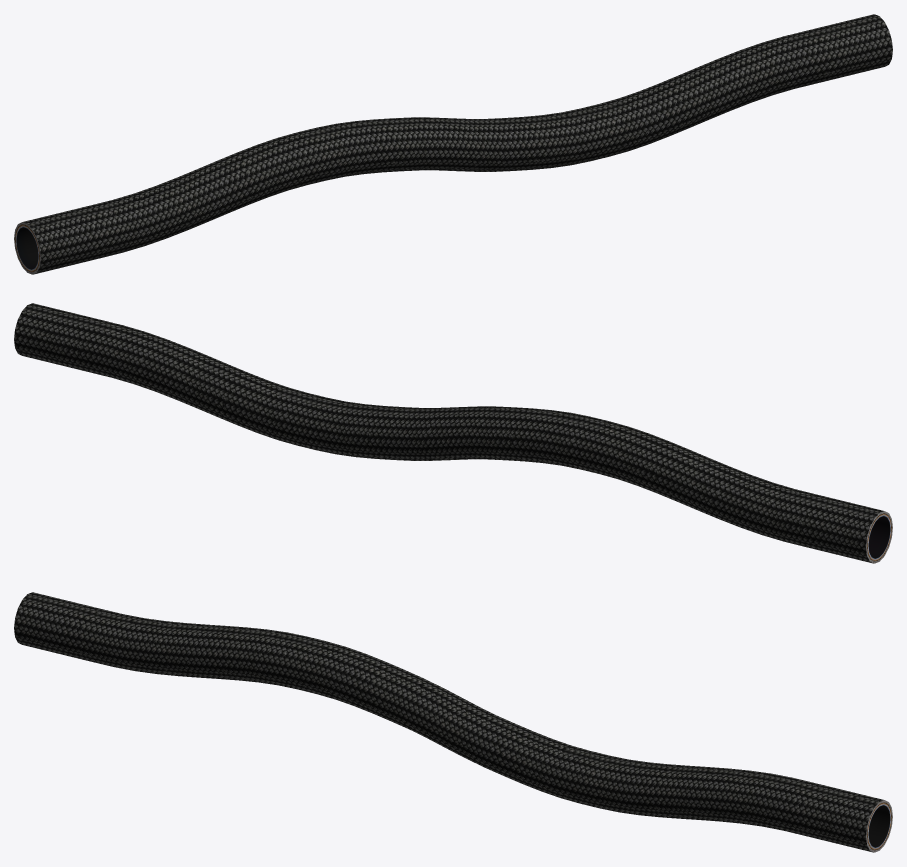
3 views of the same model, one above another, from view 1: azimuth 30°, elevation 25°; view 2: azimuth 150°, elevation 25°; view 3: azimuth 330°, elevation 25° (orthographic).
Parts seen in each view (by area): view 1: Polymer Braid-16; view 2: Polymer Braid-16; view 3: Polymer Braid-16.
Boxes of the visible parts, x1,y1,x2,y2 form: Polymer Braid-16: (14,14,892,274); Polymer Braid-16: (14,303,892,563); Polymer Braid-16: (14,592,892,852).
Bounding box in the file's own units: 0.5 × 0.0528 × 0.0274.
2 materials, 2 textured.
